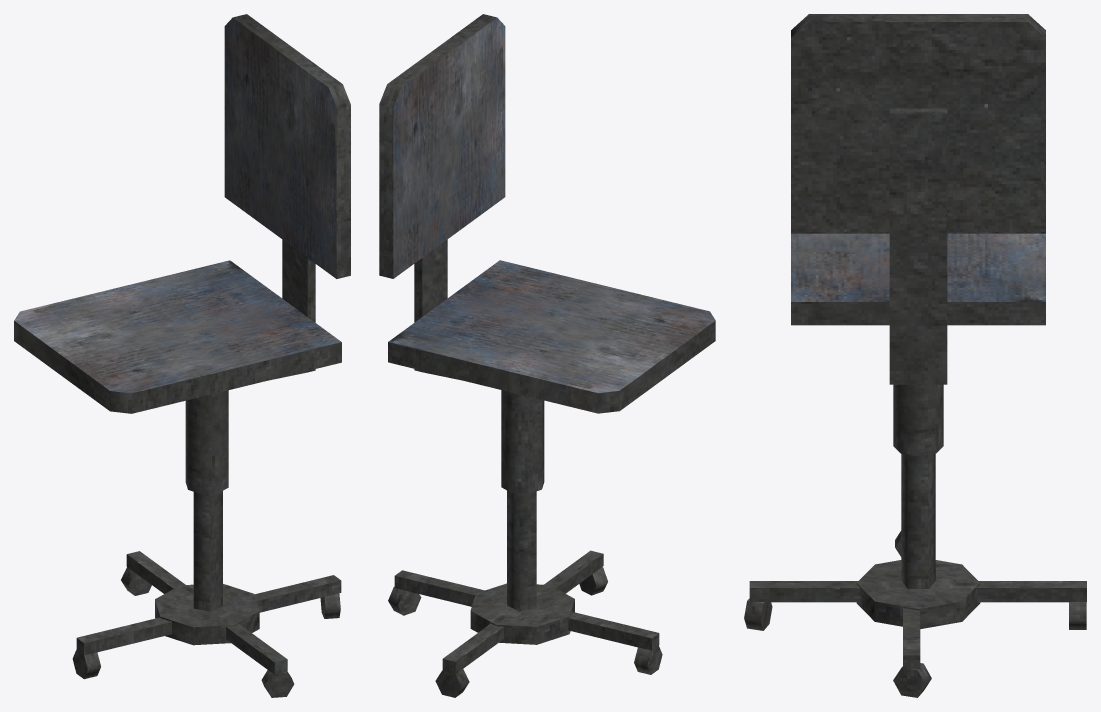
The model's file is _Armchair_1.FBX.
3 renders of one model, left to right at view 1: azimuth 30°, elevation 25°; view 2: azimuth 150°, elevation 25°; view 3: azimuth 270°, elevation 25°, orthographic. The views are drawn at different scales.
Parts seen in each view (by area): view 1: _Armchair_1; view 2: _Armchair_1; view 3: _Armchair_1.
Part boxes in pixels (<box>): _Armchair_1: <box>14,14,350,697</box>; _Armchair_1: <box>379,14,715,697</box>; _Armchair_1: <box>744,14,1086,697</box>.
Bounding box in the file's own units: 50.47 × 99.77 × 47.48.
Materials: 2 (2 with a texture image).
